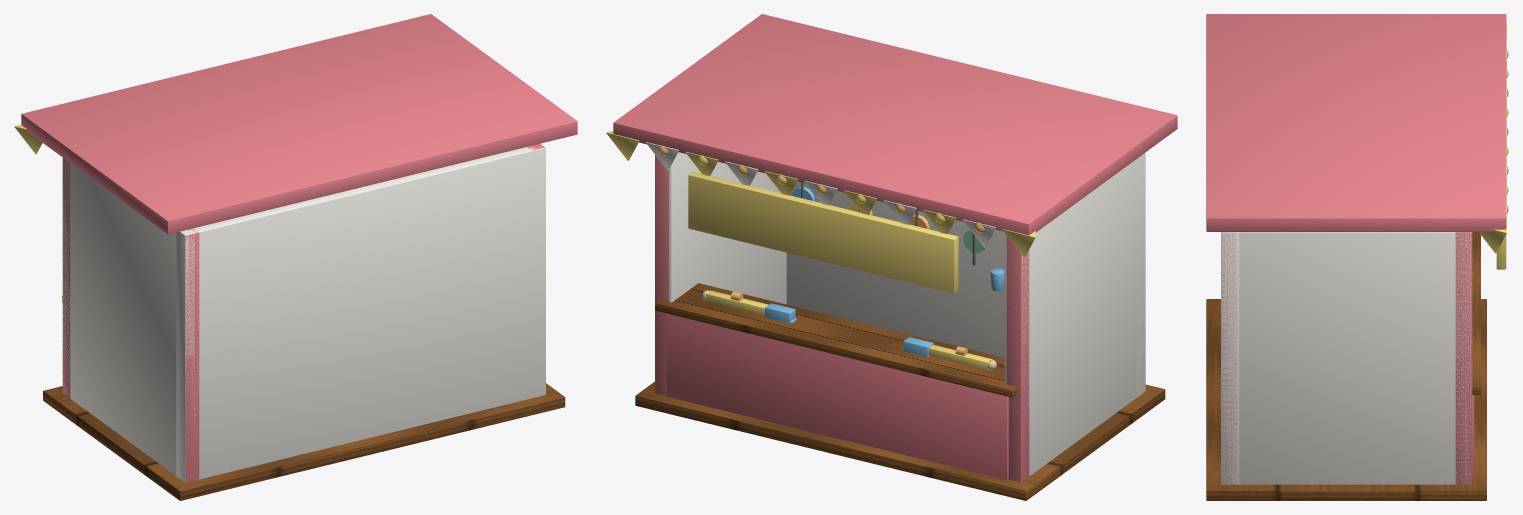
File: th37_schiessbude.glb
3 renders of one model, left to right at view 1: azimuth 30°, elevation 25°; view 2: azimuth 150°, elevation 25°; view 3: azimuth 270°, elevation 25°, orthographic. The views are drawn at different scales.
Parts seen in each view (by area): view 1: Cube.005, Cube.010, Cube.006, Cube, Cube.001, Cube.002; view 2: Cube.010, Cube.008, Cube.006, Cube.005, Cube.035, Cube.009, Cube, Cube.007, Cube.002, Cube.004, Cube.029, Cube.032; view 3: Cube.010, Cube.007, Cube, Cube.005, Cube.004, Cube.003, Cube.009, Cone.010.
Part boxes in pixels (left/top/right/bottom): Cube.005: left=176, top=144, right=545, bottom=482; Cube.010: left=21, top=14, right=577, bottom=234; Cube.006: left=62, top=158, right=200, bottom=478; Cube: left=43, top=383, right=565, bottom=500; Cube.001: left=181, top=228, right=199, bottom=482; Cube.002: left=62, top=158, right=70, bottom=398; Cube.010: left=613, top=14, right=1177, bottom=235; Cube.008: left=666, top=313, right=1008, bottom=479; Cube.006: left=1004, top=152, right=1145, bottom=481; Cube.005: left=786, top=153, right=1145, bottom=396; Cube.035: left=688, top=171, right=958, bottom=293; Cube.009: left=655, top=283, right=1016, bottom=397; Cube: left=635, top=381, right=1165, bottom=500; Cube.007: left=669, top=152, right=786, bottom=304; Cube.002: left=1006, top=236, right=1029, bottom=482; Cube.004: left=655, top=155, right=668, bottom=395; Cube.029: left=928, top=344, right=992, bottom=369; Cube.032: left=706, top=290, right=768, bottom=315; Cube.010: left=1206, top=14, right=1506, bottom=231; Cube.007: left=1222, top=232, right=1472, bottom=484; Cube: left=1206, top=299, right=1486, bottom=500; Cube.005: left=1221, top=232, right=1239, bottom=484; Cube.004: left=1455, top=232, right=1472, bottom=484; Cube.003: left=1221, top=232, right=1237, bottom=484; Cube.009: left=1472, top=232, right=1480, bottom=394; Cone.010: left=1479, top=216, right=1506, bottom=253.
Size of the model in its own units: 5.16 by 3.3 by 3.13.
9 materials, 1 textured.
